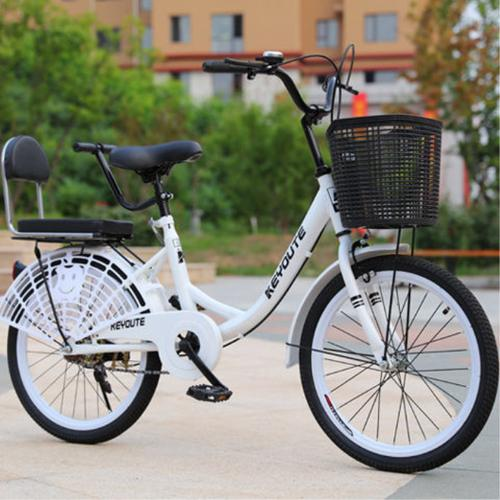单车: (1, 34, 500, 475)
